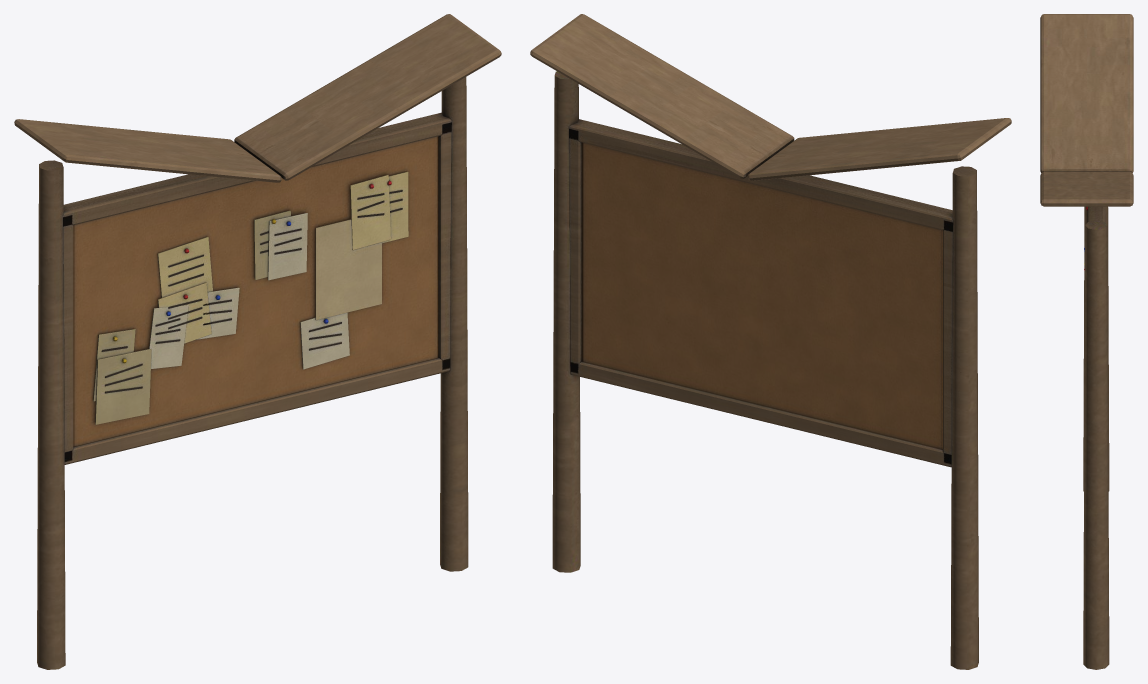
The model's file is porto_quadro_recados.glb.
3 renders of one model, left to right at view 1: azimuth 30°, elevation 25°; view 2: azimuth 150°, elevation 25°; view 3: azimuth 270°, elevation 25°, orthographic. The views are drawn at different scales.
Visible parts, largest first — view 1: porto_quadro_recados_tronco; view 2: porto_quadro_recados_tronco; view 3: porto_quadro_recados_tronco.
Boxes of the visible parts, x1,y1,x2,y2 form: porto_quadro_recados_tronco: (14, 14, 501, 669); porto_quadro_recados_tronco: (530, 14, 1011, 669); porto_quadro_recados_tronco: (1040, 14, 1133, 669).
Bounding box in the file's own units: 2.39 × 2.79 × 0.5.
1 material, 1 textured.
